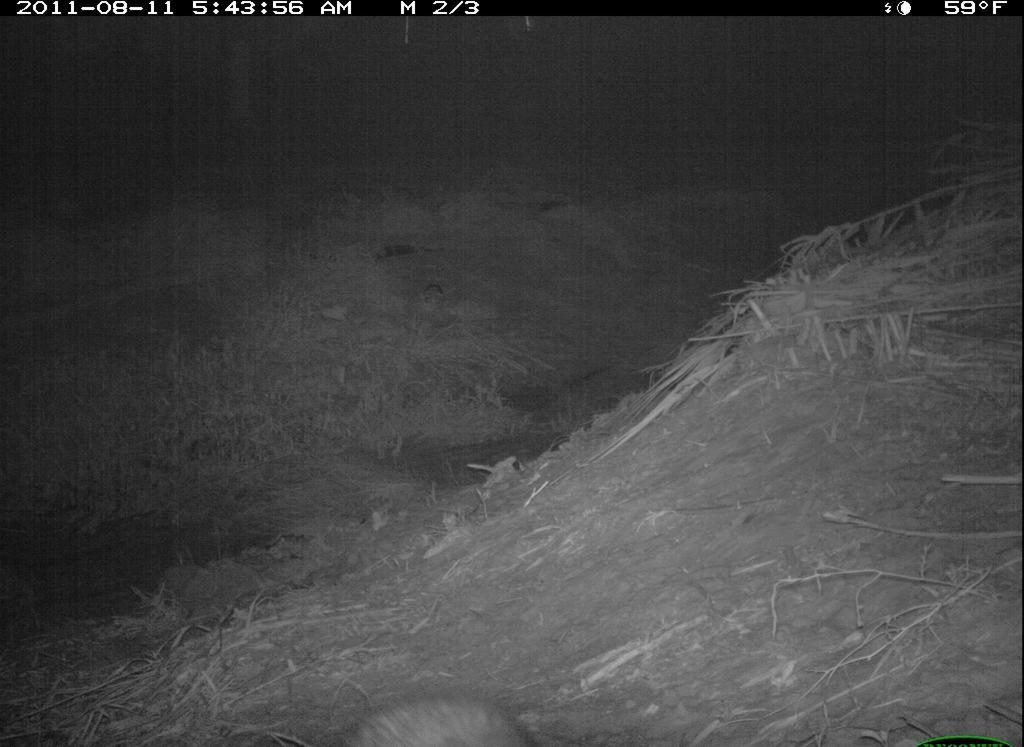raccoon: (313, 690, 550, 747)
